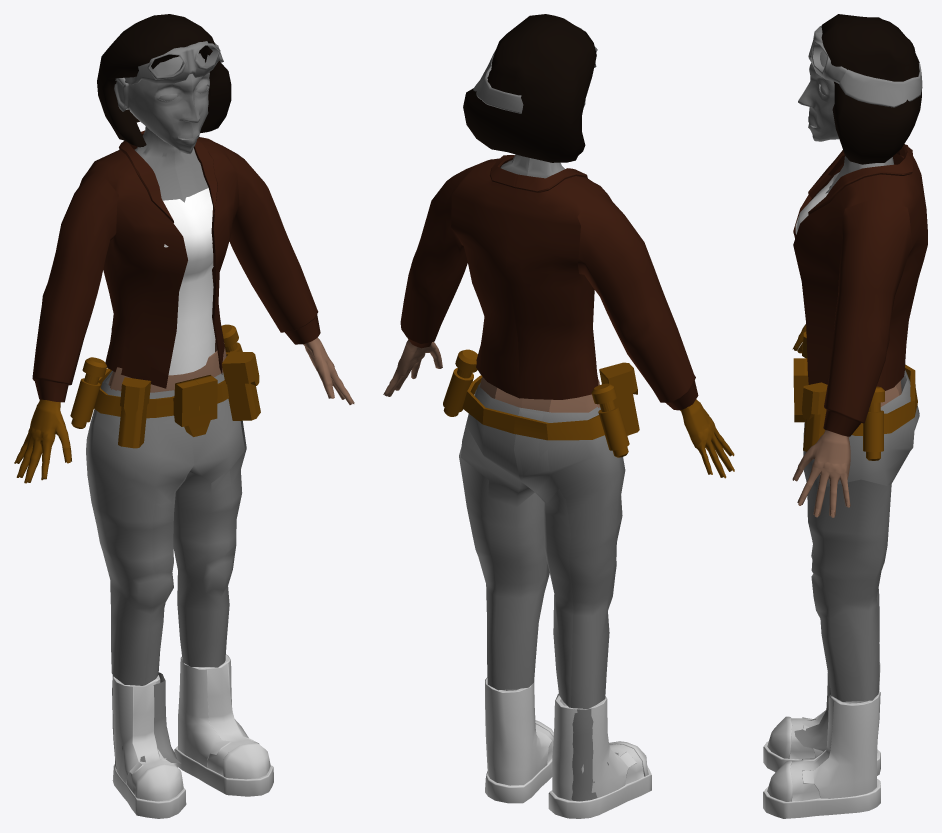
3 views of the same model, side by side, from view 1: azimuth 30°, elevation 25°; view 2: azimuth 150°, elevation 25°; view 3: azimuth 270°, elevation 25° (orthographic). The views are drawn at different scales.
Visible parts, largest first — view 1: HandR1; view 2: HandR1; view 3: HandR1.
Boxes of the visible parts, bbox=[...] form: HandR1: bbox=[14, 14, 354, 818]; HandR1: bbox=[383, 14, 734, 818]; HandR1: bbox=[763, 14, 927, 818].
Bounding box in the file's own units: 7.1 × 15.48 × 3.02.
